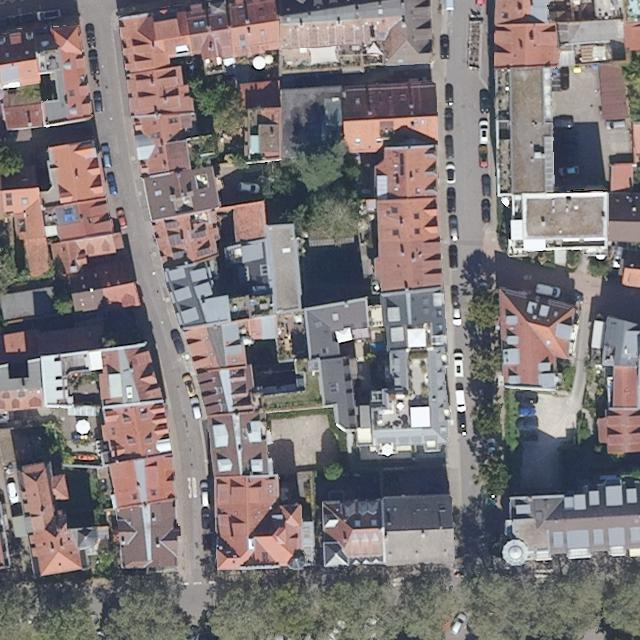PV: (64, 208, 77, 222)
